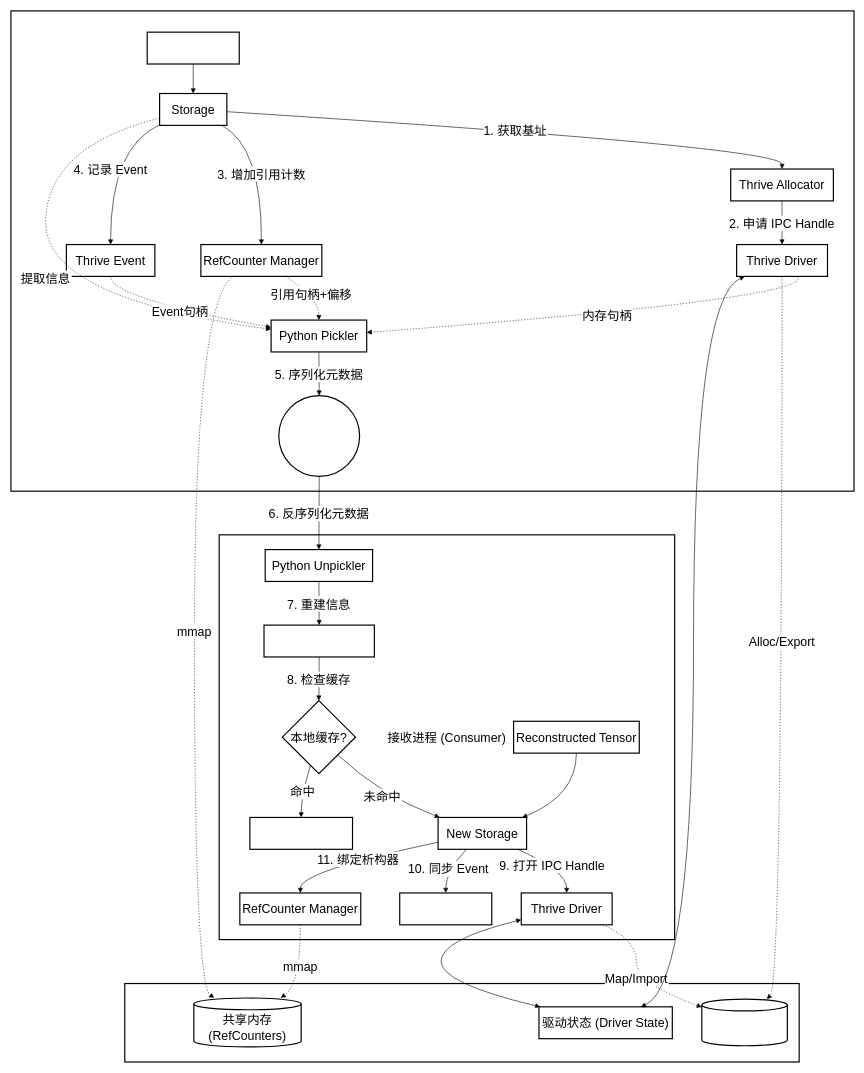
This 864x1073 diagram has some shape labels left out. Here are the shapes that lost their labels. From the top down, the box of each, then its label:
(146, 31, 240, 64): Thrive Tensor
(10, 10, 854, 491): 发送进程 (Producer)
(278, 395, 360, 477): IPC Queue / Pipe
(263, 624, 375, 657): Storage Rebuilder
(249, 817, 353, 850): Existing Storage
(399, 892, 492, 925): Rebuilt Event
(124, 983, 799, 1062): 共享资源 (OS/Hardware)
(701, 998, 788, 1046): die dram
